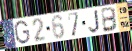2: (31, 18, 47, 44)
6: (51, 14, 66, 41)
7: (67, 11, 80, 38)
B: (100, 6, 119, 34)
G: (14, 20, 31, 46)
J: (88, 9, 101, 33)
